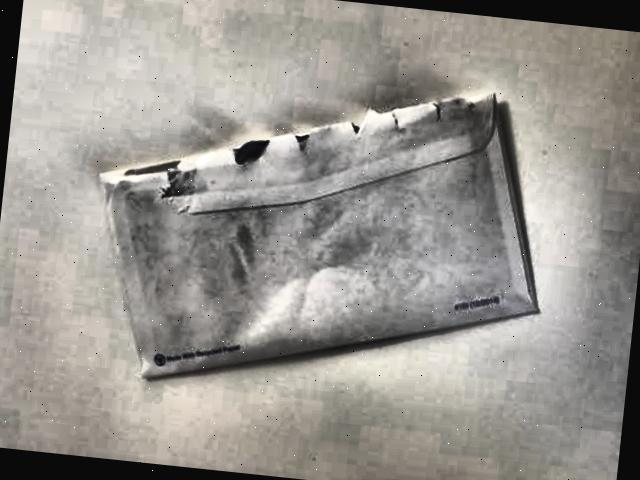Paper: (38, 38, 580, 418)
